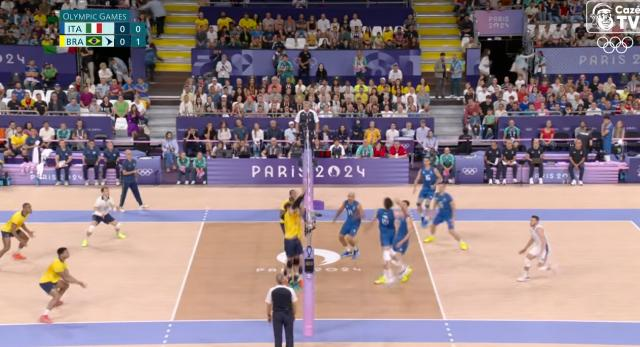Levantador: (282, 204, 300, 278), (400, 196, 410, 260)
Libero: (523, 215, 551, 280), (89, 187, 118, 241)
bola: (365, 135, 375, 145)
